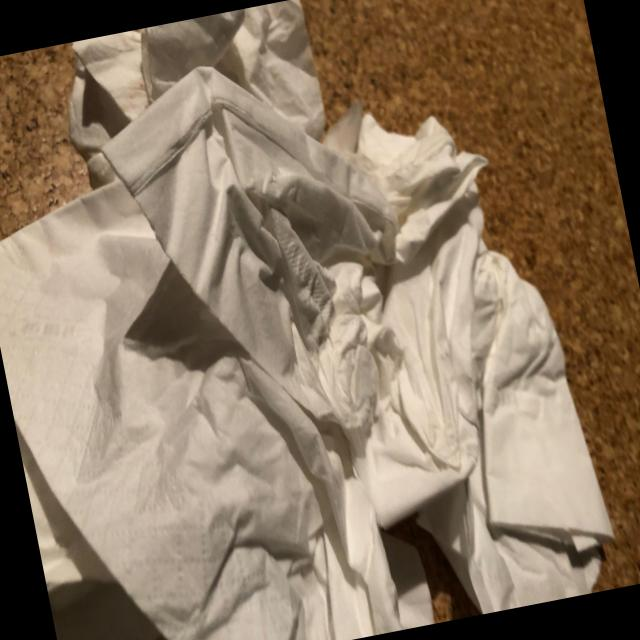organic waste: (0, 29, 468, 640), (280, 79, 550, 564), (367, 236, 628, 623)
